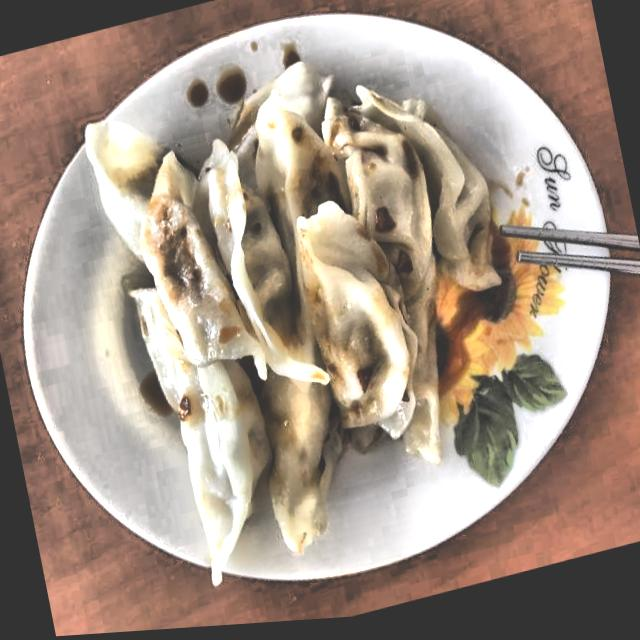Food: (74, 22, 551, 605), (286, 191, 437, 471)
